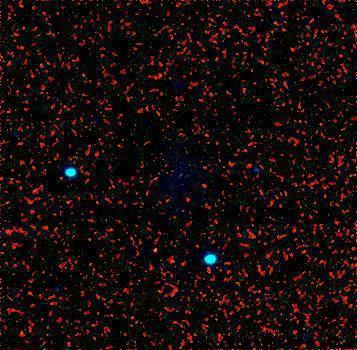star: (139, 234, 169, 264)
